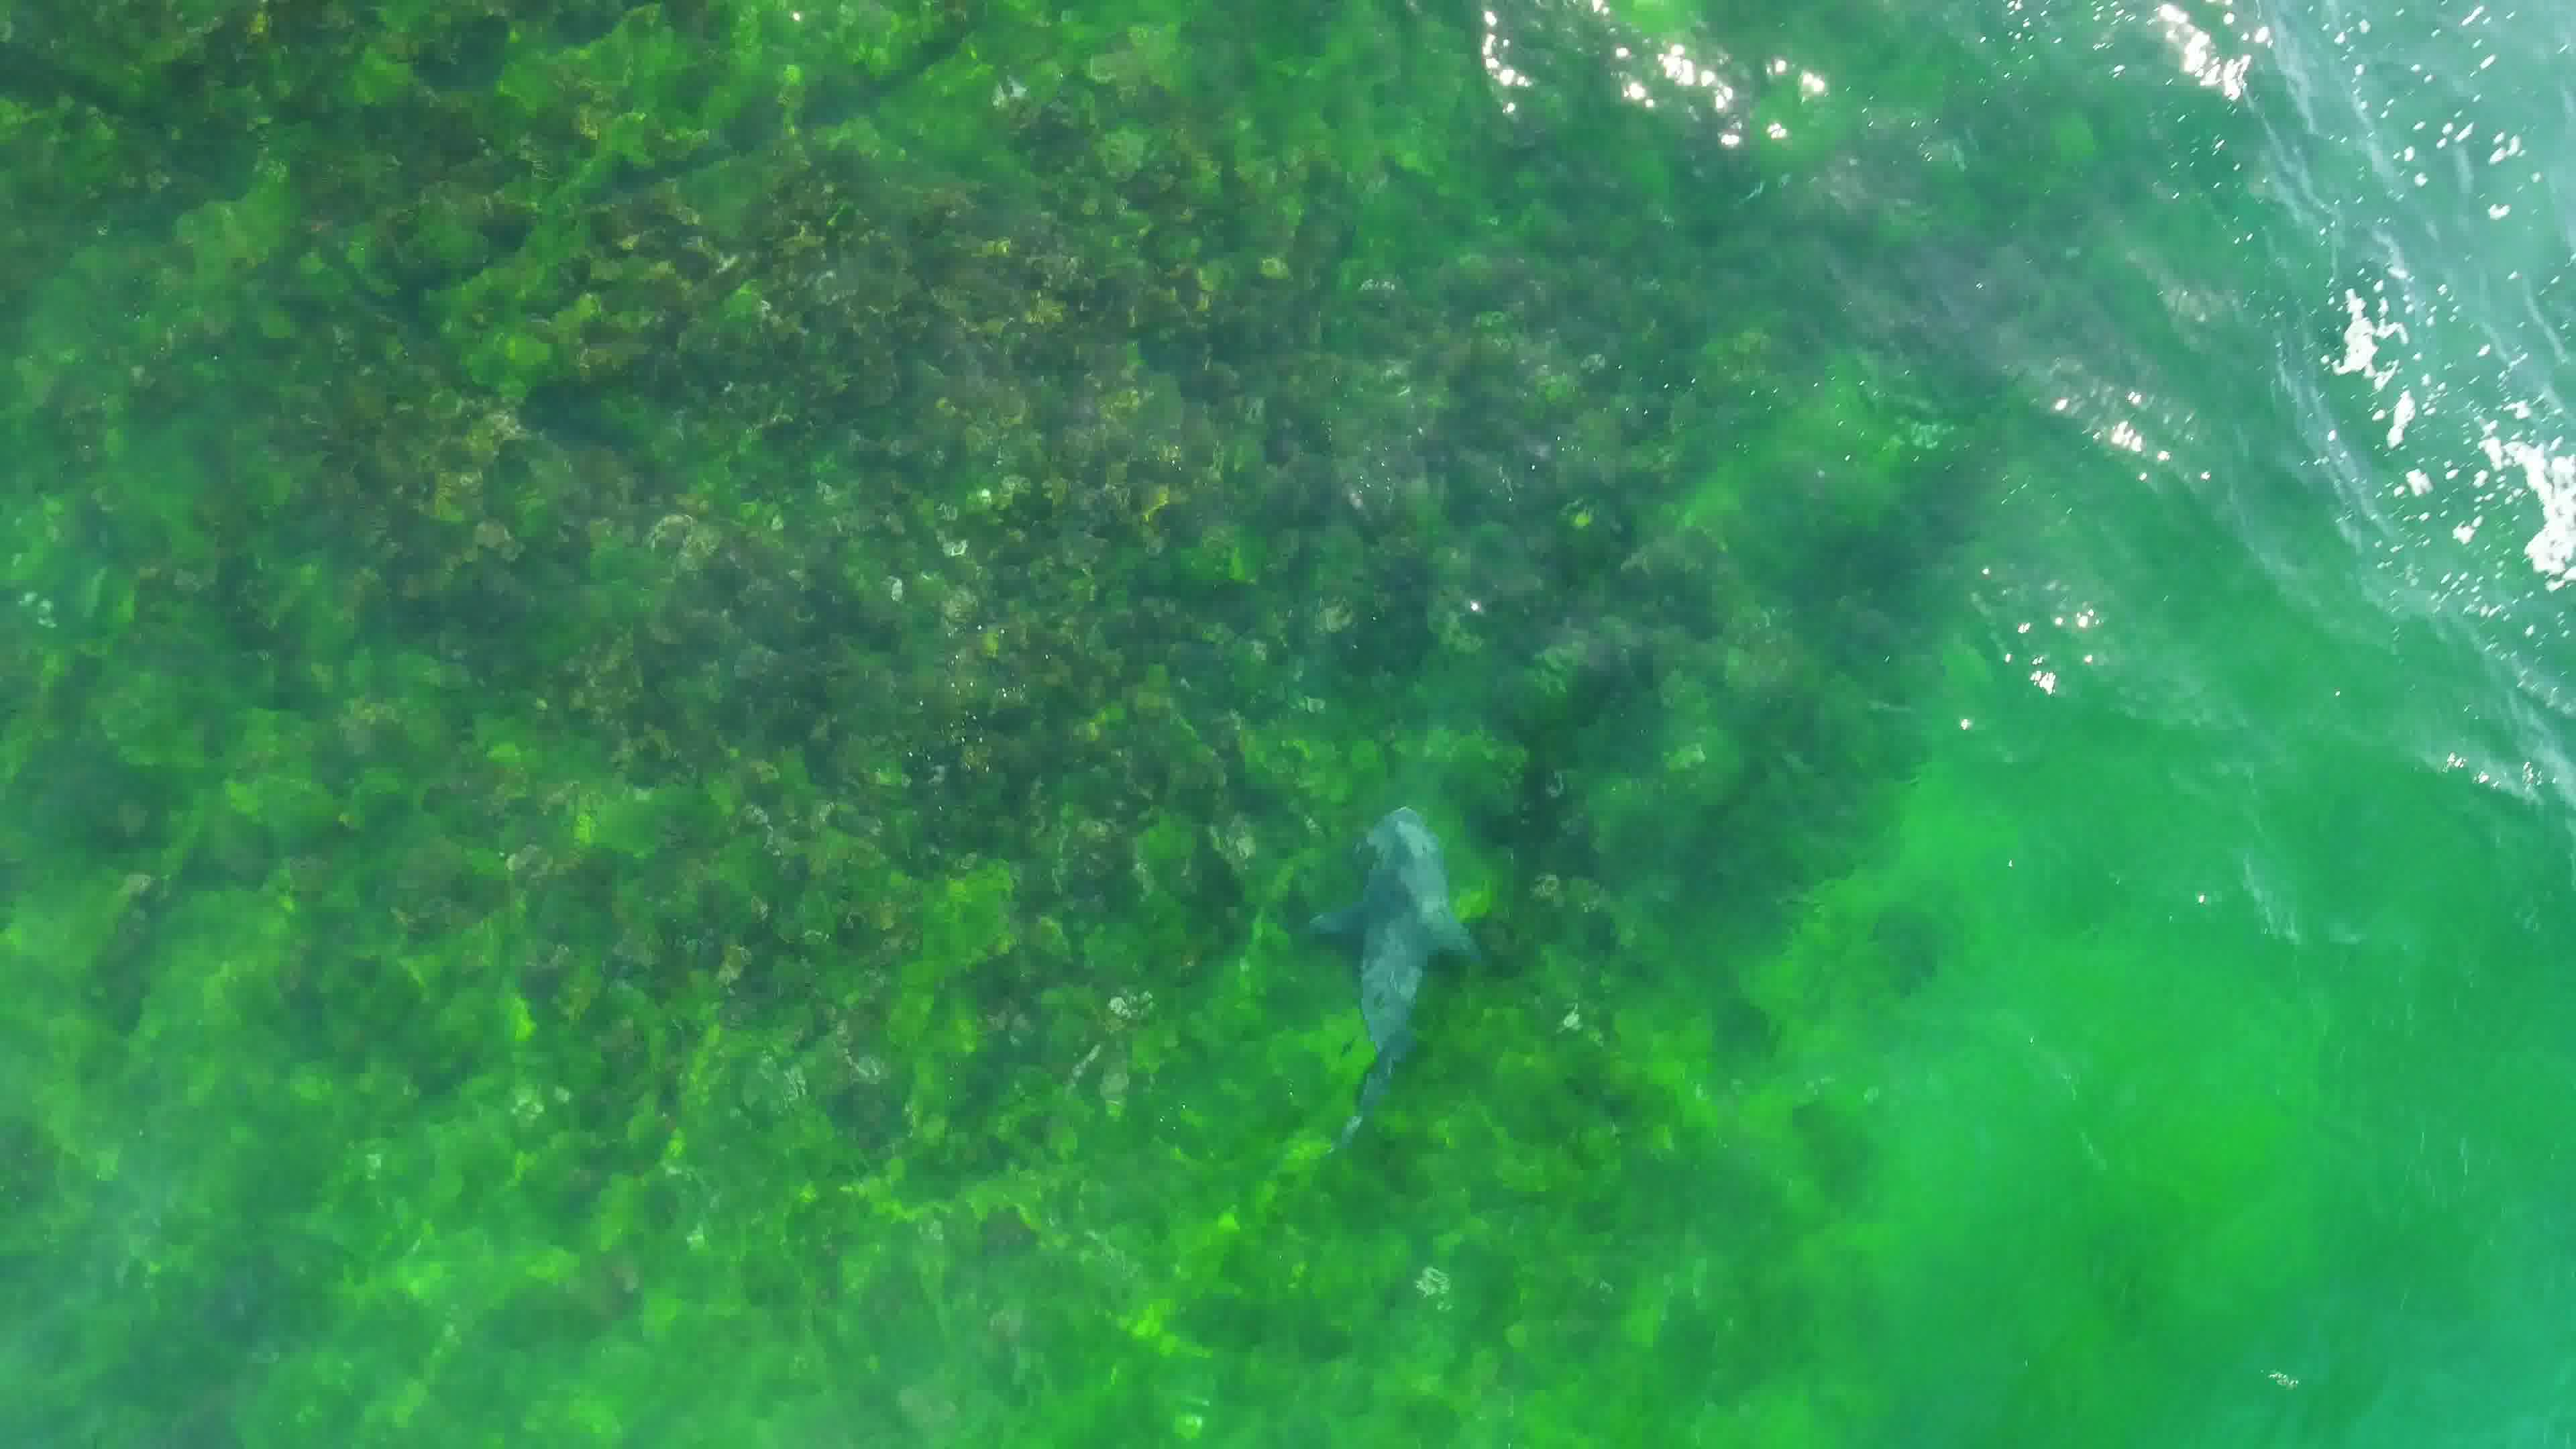shark: (1299, 796, 1483, 1152)
